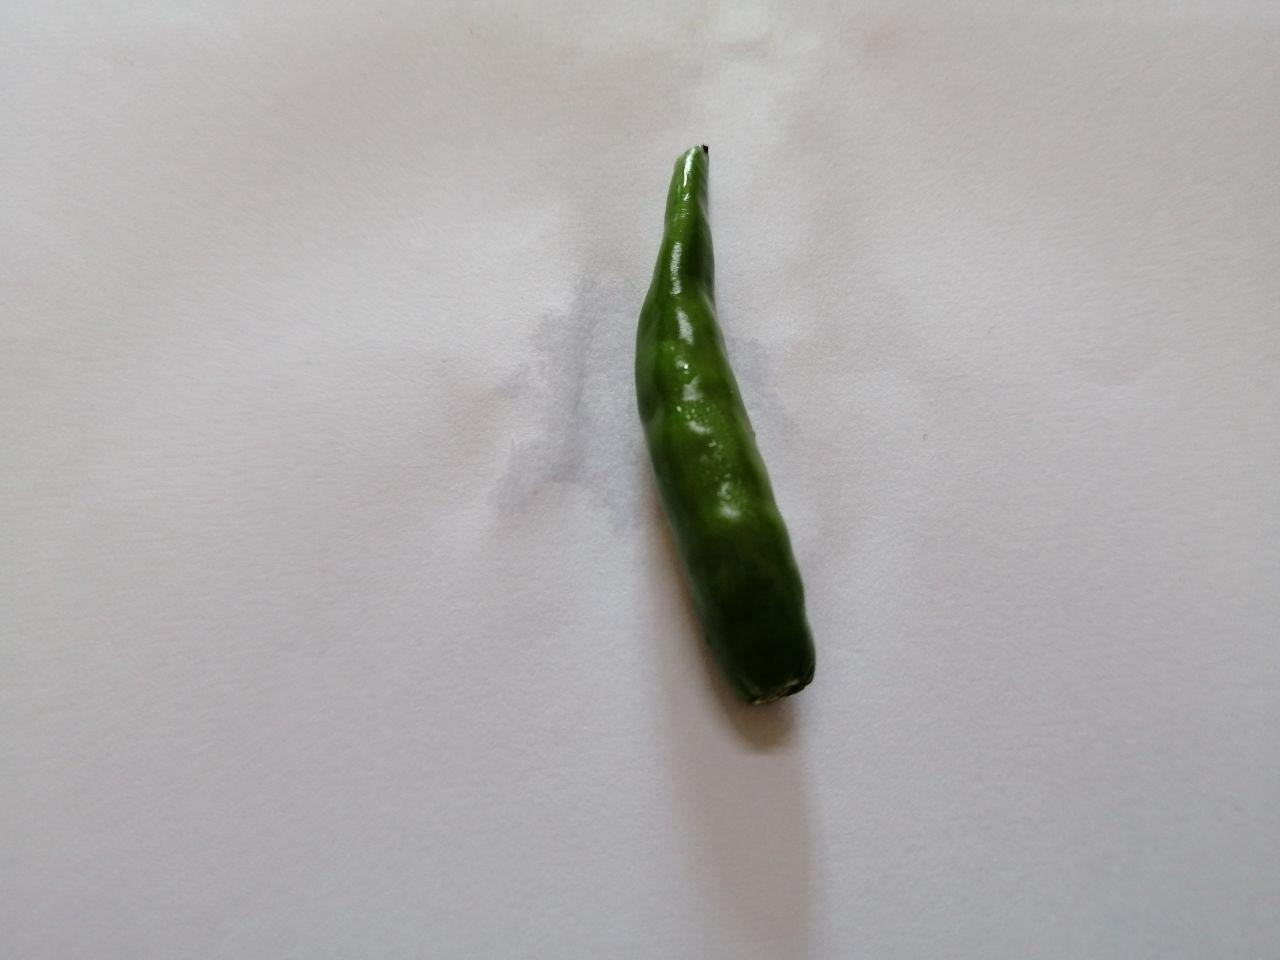lada hijau: (613, 128, 862, 736)
